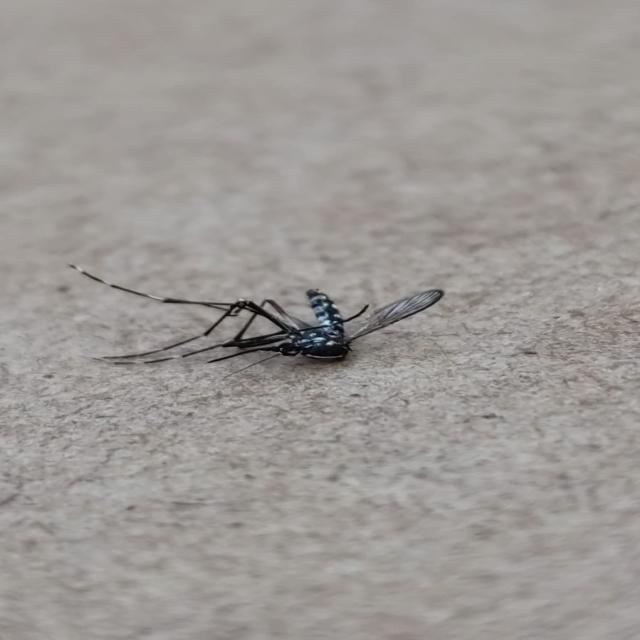albopictus: (62, 255, 440, 381)
